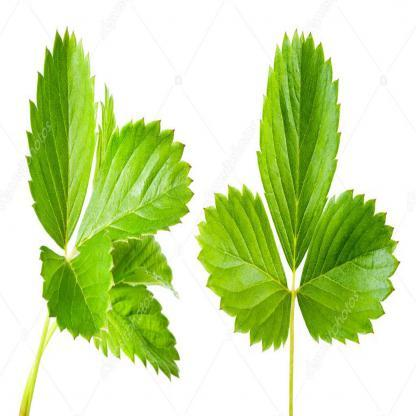Strawberry leaf: (258, 27, 342, 266), (193, 185, 294, 353), (25, 27, 99, 252), (304, 188, 402, 346), (88, 115, 196, 242), (39, 236, 118, 348)
